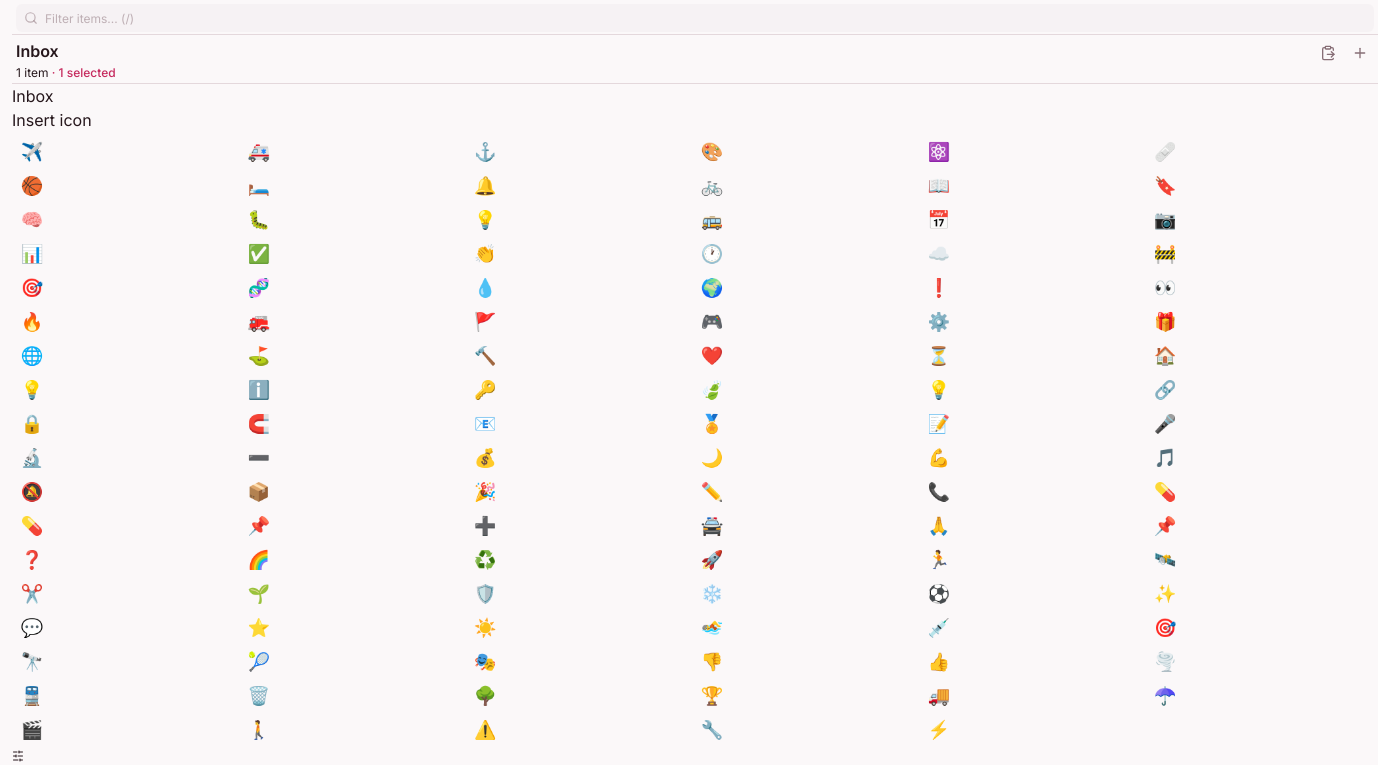
Test: the search box › offers the commands while one is typed, and Tab completes the first
The width and height of the screenshot is (1378, 765).
Later steps or results of the test are not shown.
Type "/ov" into the dropdown with placeholder "Filter items... (/)" at x=695, y=18, box [16,4,1374,32]
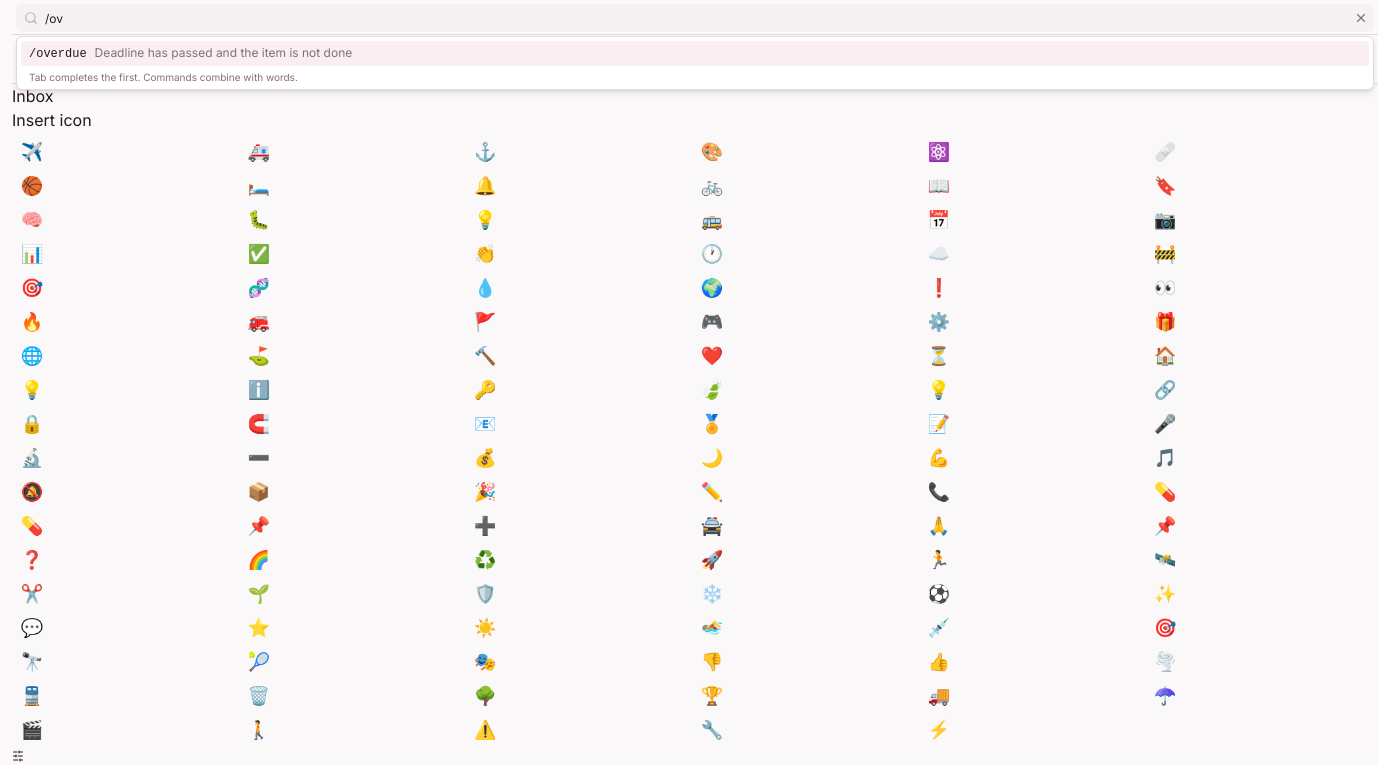
expect the text "/overdue" is shown: met, box [29,46,87,62]
